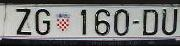-: (132, 21, 140, 24)
0: (114, 8, 129, 36)
1: (80, 9, 88, 36)
6: (94, 8, 110, 36)
D: (142, 8, 158, 35)
G: (34, 9, 52, 35)
U: (162, 9, 177, 34)
Z: (15, 9, 32, 36)
